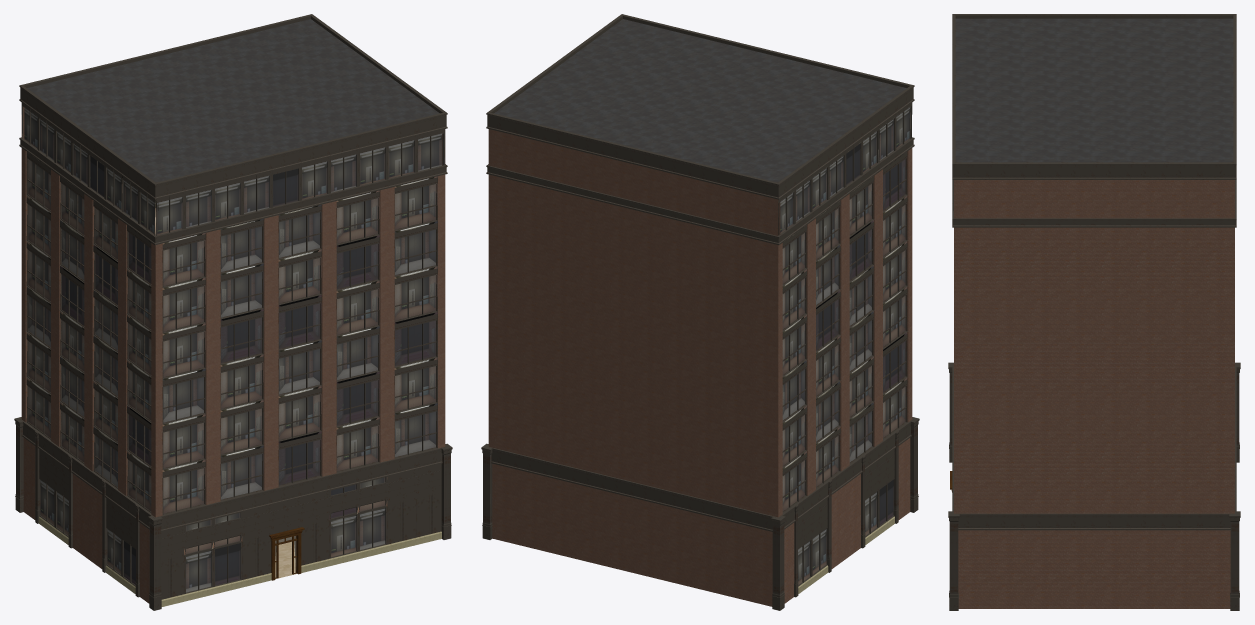
The model's file is Building_Large_2.glb.
3 views of the same model, side by side, from view 1: azimuth 30°, elevation 25°; view 2: azimuth 150°, elevation 25°; view 3: azimuth 270°, elevation 25° (orthographic). The views are drawn at different scales.
Visible parts, largest first — view 1: Building_Large_2; view 2: Building_Large_2; view 3: Building_Large_2.
Boxes of the visible parts, box(x1,y1,x2,y2) form: Building_Large_2: box(14, 14, 452, 610); Building_Large_2: box(481, 14, 919, 610); Building_Large_2: box(948, 14, 1240, 610).
Size of the model in its own units: 20.64 by 28 by 16.64.
9 materials, 8 textured.
